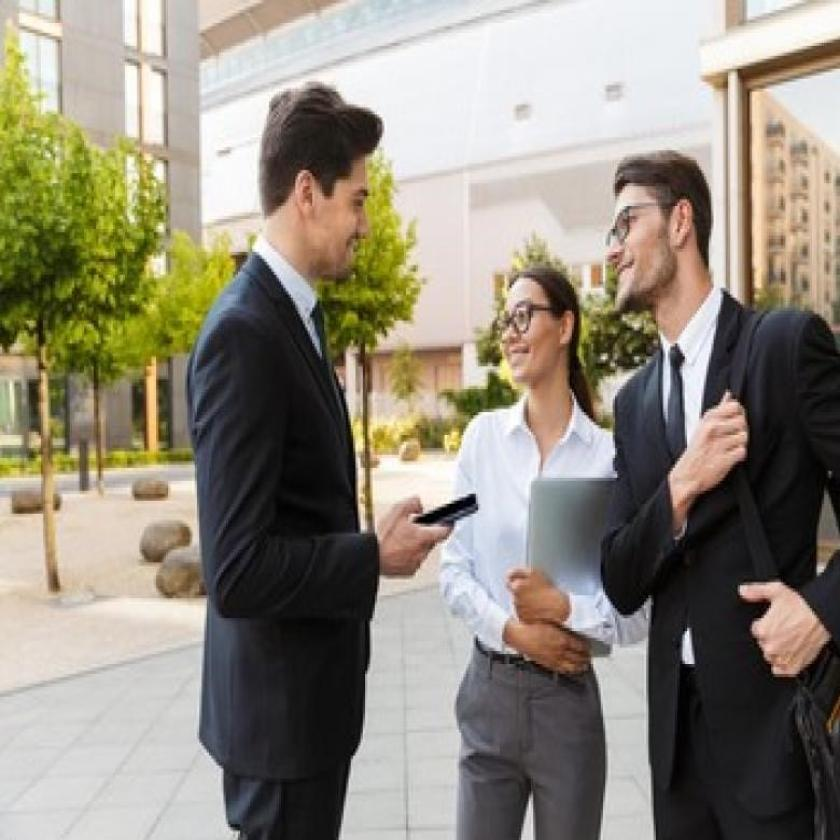Sin_casco: (251, 63, 383, 320), (596, 147, 709, 330), (499, 260, 584, 397)
